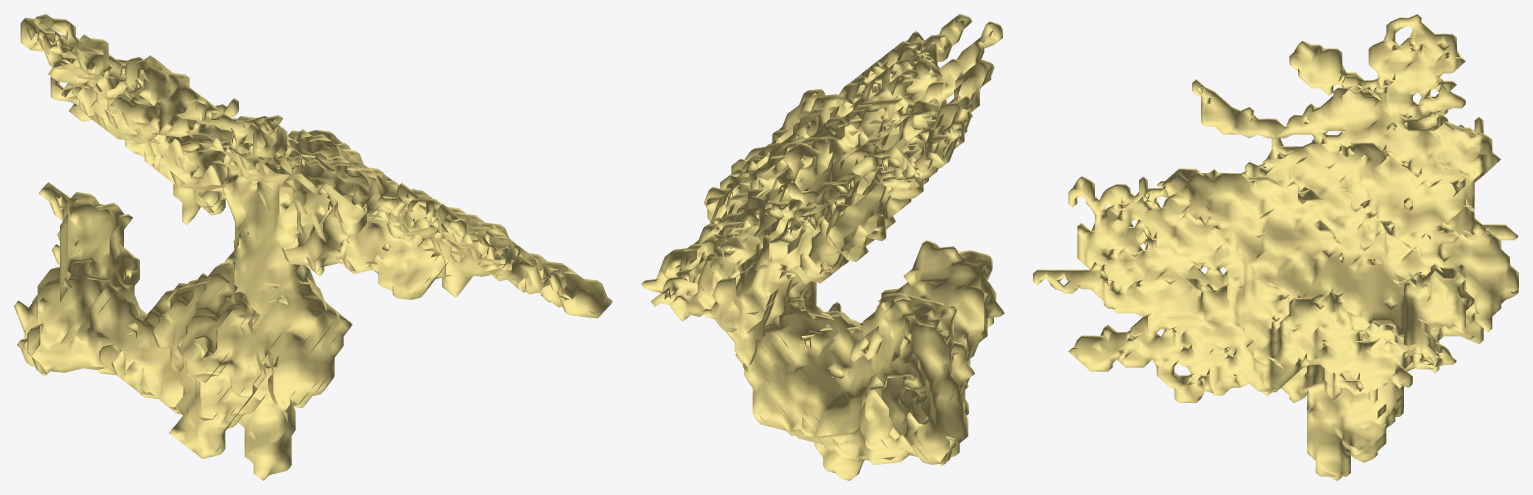
Rendered from osteocyte_35.glb.
3 views of the same model, side by side, from view 1: azimuth 30°, elevation 25°; view 2: azimuth 150°, elevation 25°; view 3: azimuth 270°, elevation 25° (orthographic). The views are drawn at different scales.
Parts seen in each view (by area): view 1: osteocyte_35; view 2: osteocyte_35; view 3: osteocyte_35.
Boxes of the visible parts, box(x1,y1,x2,y2) form: osteocyte_35: box(14, 14, 612, 480); osteocyte_35: box(641, 14, 1004, 480); osteocyte_35: box(1033, 14, 1518, 480).
Bounding box in the file's own units: 20.7 × 23.59 × 26.48.
